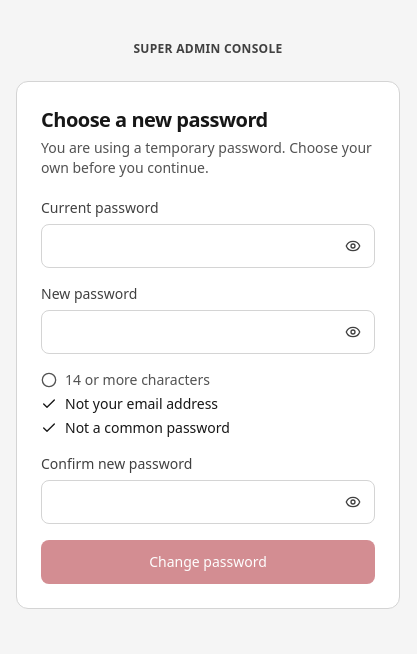
it: Super admin change password › a wrong current password stops before the change
Type "Temp-Passw0rd-xyz" into the password field labelled "Current password" at {"x": 208, "y": 246}, box [41,224,375,268]
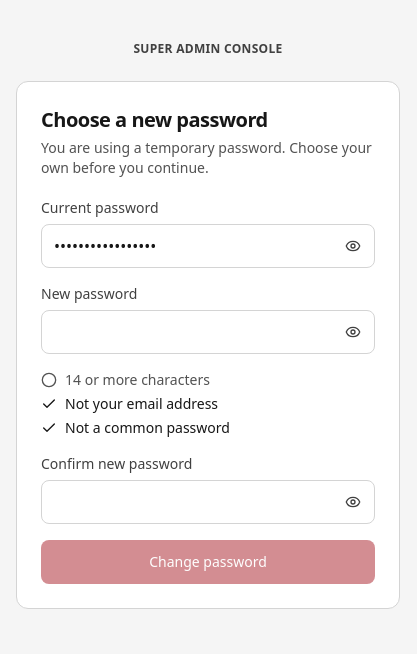
Type "Correct-Horse-Battery-9" into the password field labelled "New password" at {"x": 208, "y": 332}, box [41,310,375,354]
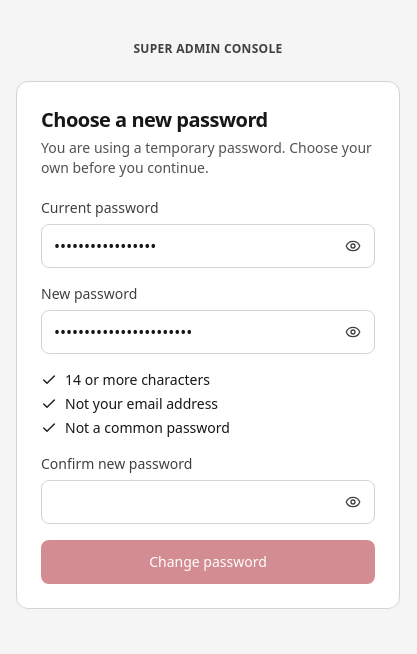
Type "Correct-Horse-Battery-9" into the password field labelled "Confirm new password" at {"x": 208, "y": 502}, box [41,480,375,524]
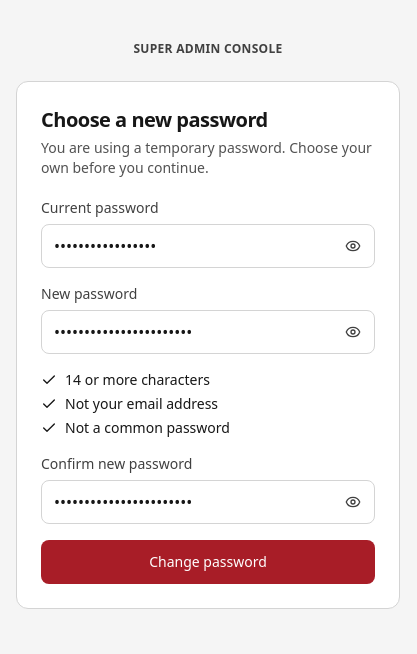
Click the button "Change password" at {"x": 208, "y": 562}, box [41,540,375,584]
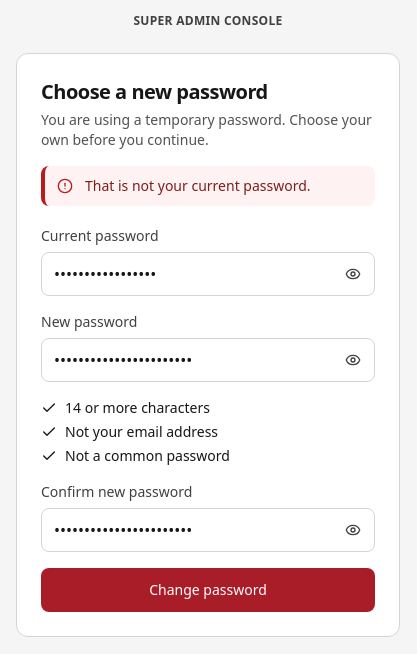
Check: the message shows "not your current password", box [85,176,311,195]
